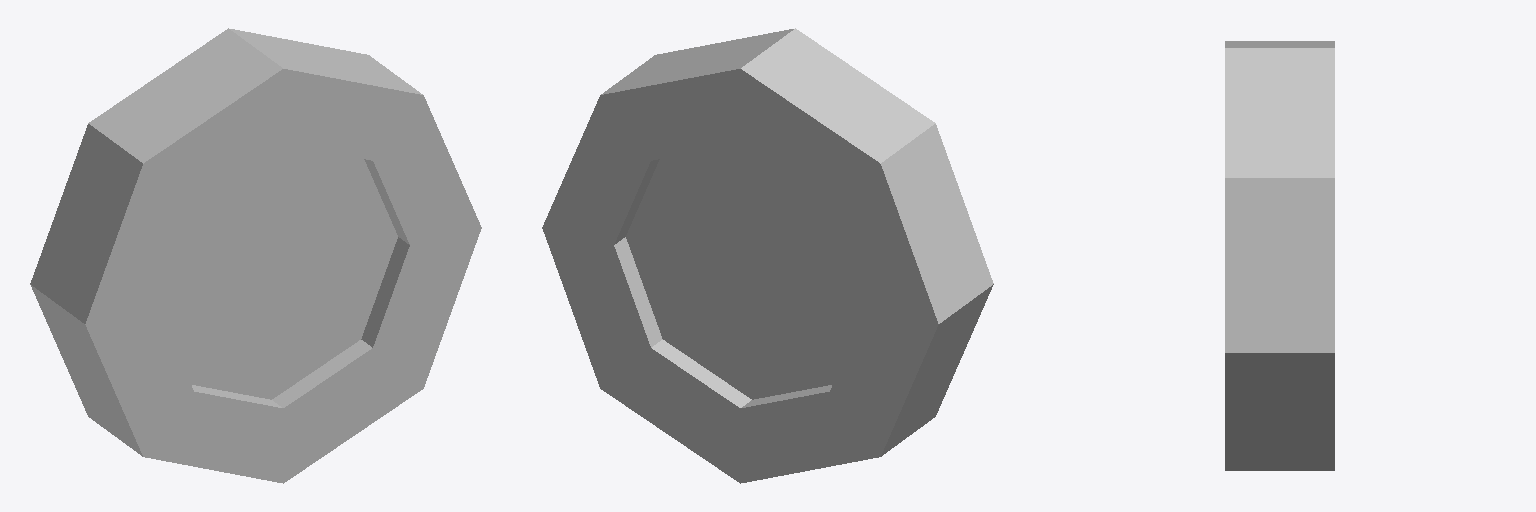
The model's file is coin.obj.
3 views of the same model, side by side, from view 1: azimuth 30°, elevation 25°; view 2: azimuth 150°, elevation 25°; view 3: azimuth 270°, elevation 25° (orthographic).
Parts seen in each view (by area): view 1: Цилиндр; view 2: Цилиндр; view 3: Цилиндр.
Part boxes in pixels (left/top/right/bottom): Цилиндр: left=30, top=28, right=481, bottom=483; Цилиндр: left=542, top=28, right=993, bottom=483; Цилиндр: left=1225, top=41, right=1334, bottom=470.
Size of the model in its own units: 2 by 2 by 0.4813.